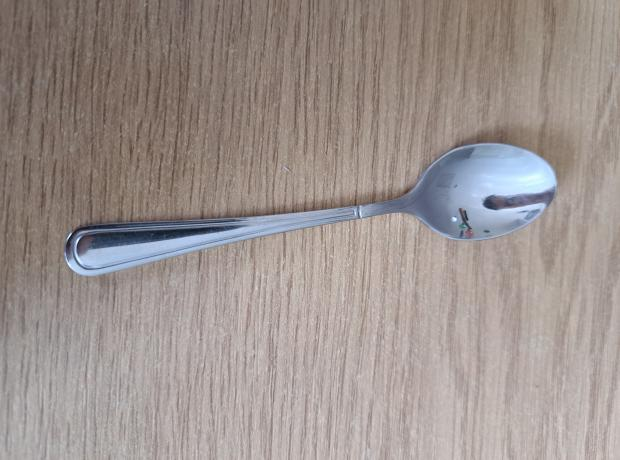metal: (65, 138, 562, 278)
